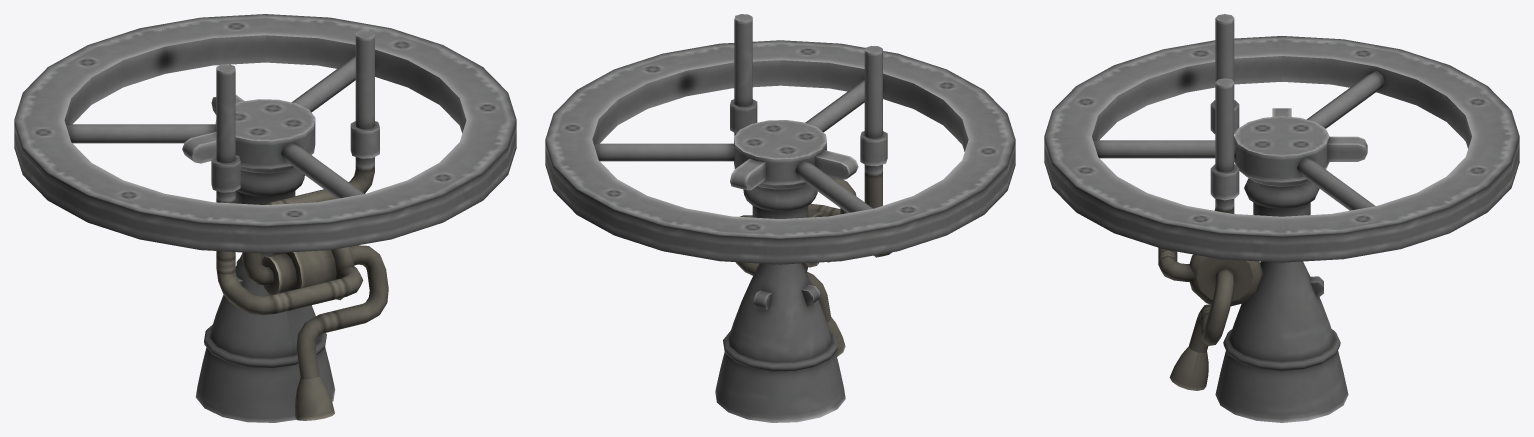
File: 4mv_engine_s0_1.obj
3 views of the same model, side by side, from view 1: azimuth 30°, elevation 25°; view 2: azimuth 150°, elevation 25°; view 3: azimuth 270°, elevation 25° (orthographic). The views are drawn at different scales.
Parts seen in each view (by area): view 1: mesh1; view 2: mesh1; view 3: mesh1.
Boxes of the visible parts, x1,y1,x2,y2 form: mesh1: (14,14,516,422); mesh1: (545,14,1015,422); mesh1: (1044,14,1519,422).
Bounding box in the file's own units: 0.625 × 0.5 × 0.625.
Materials: 1 (1 with a texture image).
